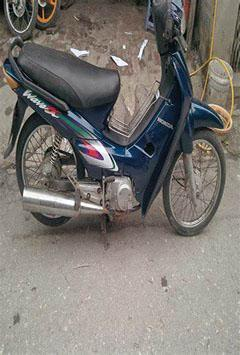motorcycle: (0, 0, 234, 259)
